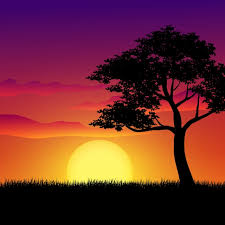sky: (5, 4, 225, 186)
tree: (107, 29, 221, 185)
